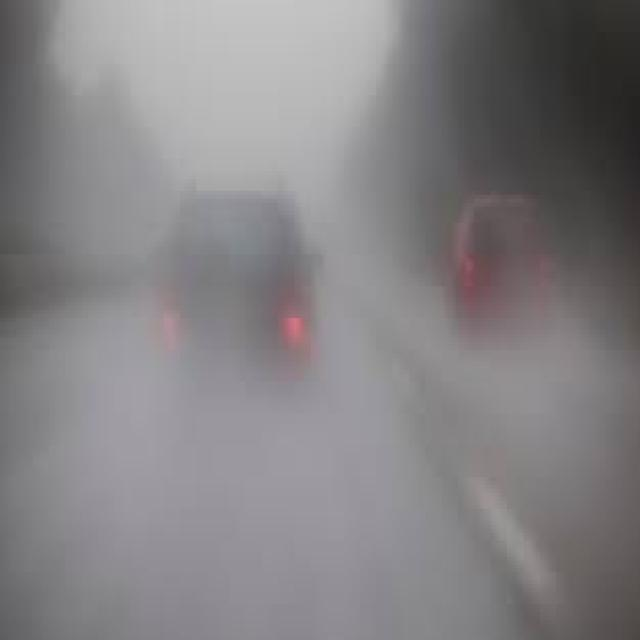car: (160, 179, 323, 421), (446, 199, 558, 358)
